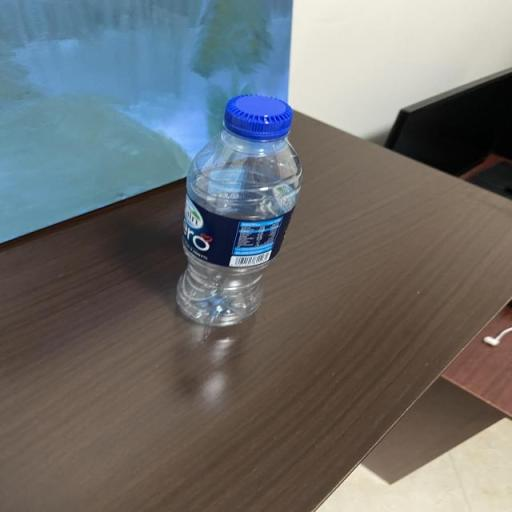plastic: (176, 95, 303, 328)
